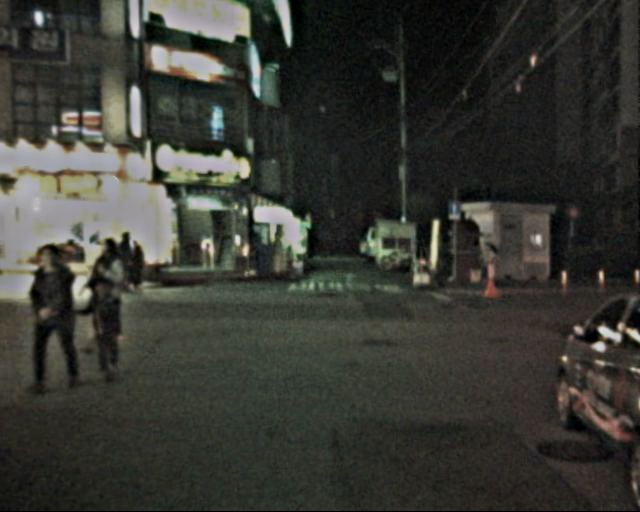person: (19, 234, 95, 391), (85, 227, 137, 352), (88, 270, 130, 383), (123, 225, 149, 285), (474, 232, 495, 286)
